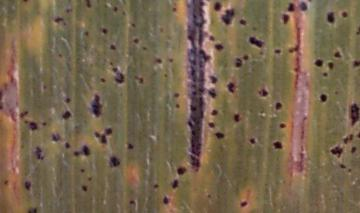tarspot: (183, 1, 211, 175), (108, 61, 126, 84), (88, 92, 103, 119), (347, 102, 360, 128), (220, 8, 236, 27), (247, 35, 265, 48), (329, 144, 344, 159), (33, 145, 44, 162), (175, 164, 188, 177), (108, 156, 121, 169), (132, 73, 146, 85), (50, 130, 62, 144), (326, 10, 336, 25), (271, 140, 283, 152), (225, 81, 236, 94), (81, 143, 91, 157), (99, 132, 108, 147), (238, 198, 250, 209), (313, 57, 324, 69), (213, 41, 224, 52), (23, 180, 33, 192), (60, 110, 72, 120), (52, 15, 64, 25), (233, 56, 242, 69), (28, 120, 37, 133), (171, 178, 179, 192), (281, 13, 289, 27), (206, 88, 217, 98), (260, 87, 270, 98), (208, 74, 217, 86), (326, 60, 335, 72), (299, 1, 307, 14), (332, 50, 342, 60), (63, 140, 73, 150), (248, 135, 257, 146), (213, 131, 225, 139), (319, 92, 327, 104), (287, 2, 295, 14), (286, 47, 298, 55), (212, 1, 222, 10), (238, 18, 248, 27), (104, 127, 114, 136), (349, 145, 358, 155), (18, 110, 28, 119), (64, 6, 74, 15), (233, 112, 241, 123), (124, 142, 135, 150), (275, 101, 283, 112), (210, 109, 219, 118), (241, 52, 250, 61), (80, 183, 88, 193), (340, 9, 348, 19), (26, 207, 38, 213), (72, 149, 80, 158), (100, 27, 109, 35), (108, 43, 117, 51), (278, 121, 286, 130), (352, 59, 360, 68), (272, 47, 281, 55), (341, 135, 349, 144), (98, 76, 106, 85), (320, 70, 328, 79), (1, 89, 4, 113), (162, 195, 169, 205), (167, 57, 175, 65), (338, 162, 346, 170), (84, 1, 92, 9), (206, 121, 215, 128), (208, 34, 215, 43), (93, 130, 100, 139), (64, 95, 71, 104), (2, 178, 9, 187), (355, 24, 360, 36), (173, 102, 181, 109), (173, 91, 180, 99), (155, 57, 163, 64), (152, 182, 160, 189), (132, 37, 140, 44), (82, 30, 90, 37), (141, 45, 149, 52), (348, 132, 354, 141), (41, 82, 47, 91), (162, 72, 169, 79), (171, 6, 178, 13), (128, 198, 135, 205), (79, 167, 86, 174), (86, 176, 93, 183), (112, 5, 118, 13), (56, 52, 64, 58), (206, 191, 212, 198), (130, 22, 137, 28), (333, 89, 339, 96), (40, 121, 48, 126), (357, 129, 360, 141), (346, 167, 353, 172), (21, 1, 27, 3)
